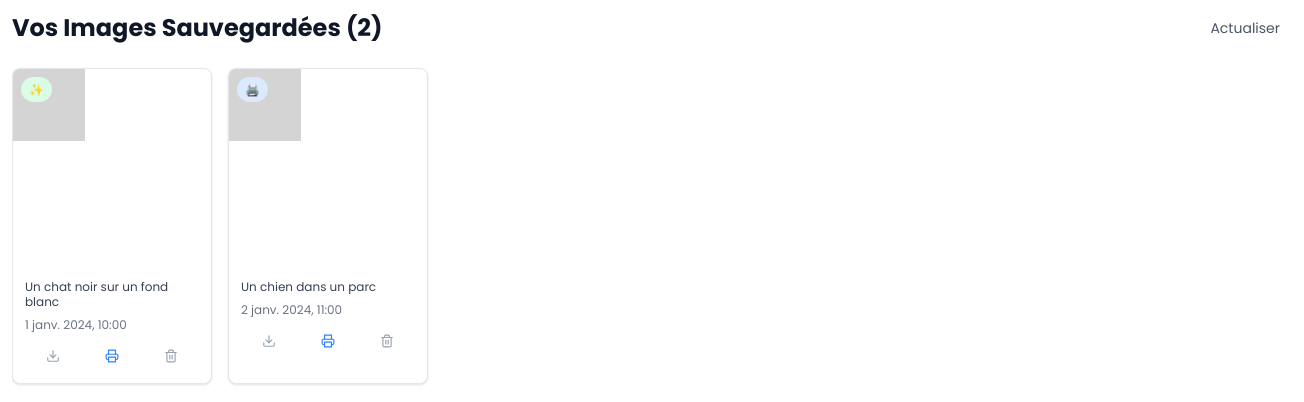
Test case: SavedImages › Gestion des notifications › permet de fermer une notification manuellement
This screenshot has width=1304, height=402.
Expected: the heading "Vos Images Sauvegardées (2)" is shown, 12,12 -> 382,44
Click the button titled "Supprimer" below "1 janv. 2024, 10:00". click: (171, 356)
box: 144,341 -> 199,371
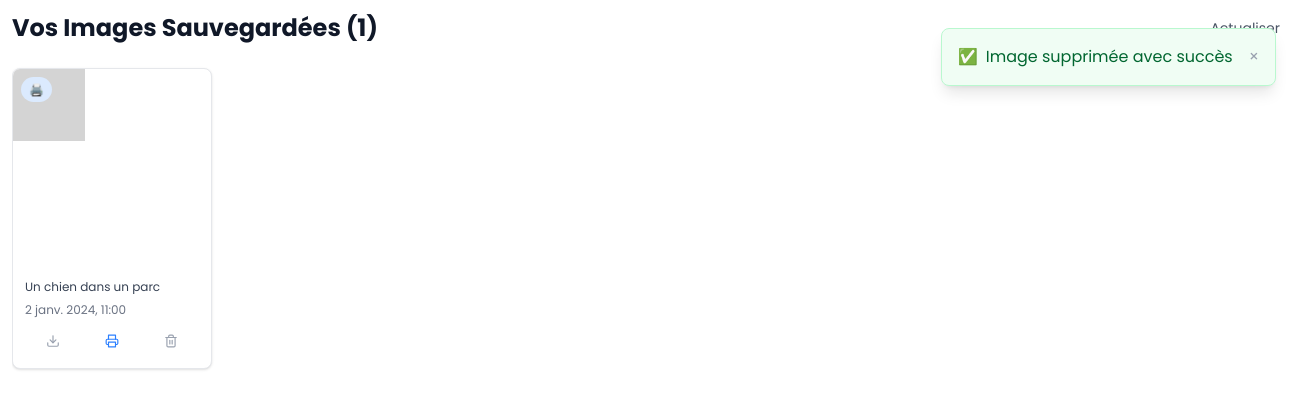
Result: the heading "Vos Images Sauvegardées (1)" is shown at 12,12 -> 378,44
Result: the text "Image supprimée avec succès" is shown at 986,45 -> 1233,69
Click the button "×". click: (1254, 57)
box: 1249,45 -> 1259,69
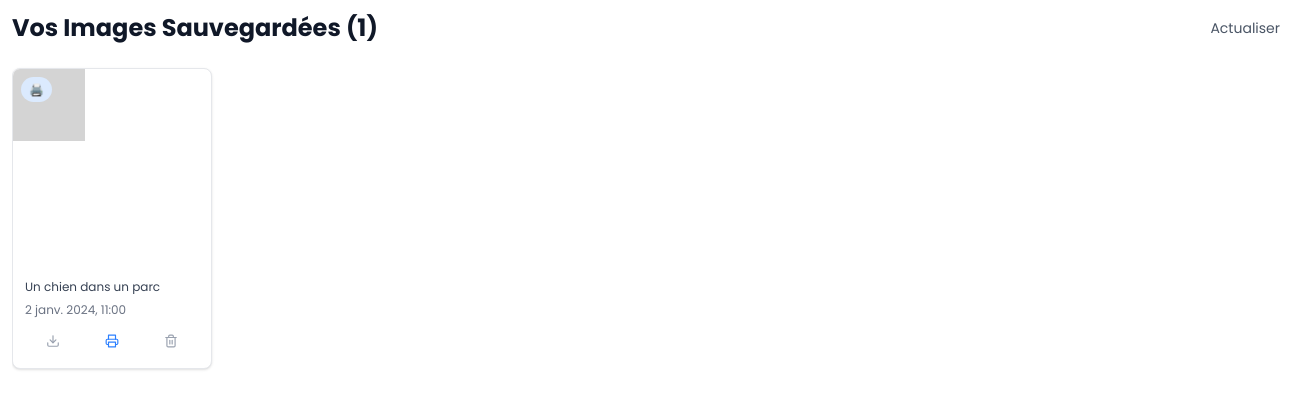
Result: the text "Image supprimée avec succès" is gone
